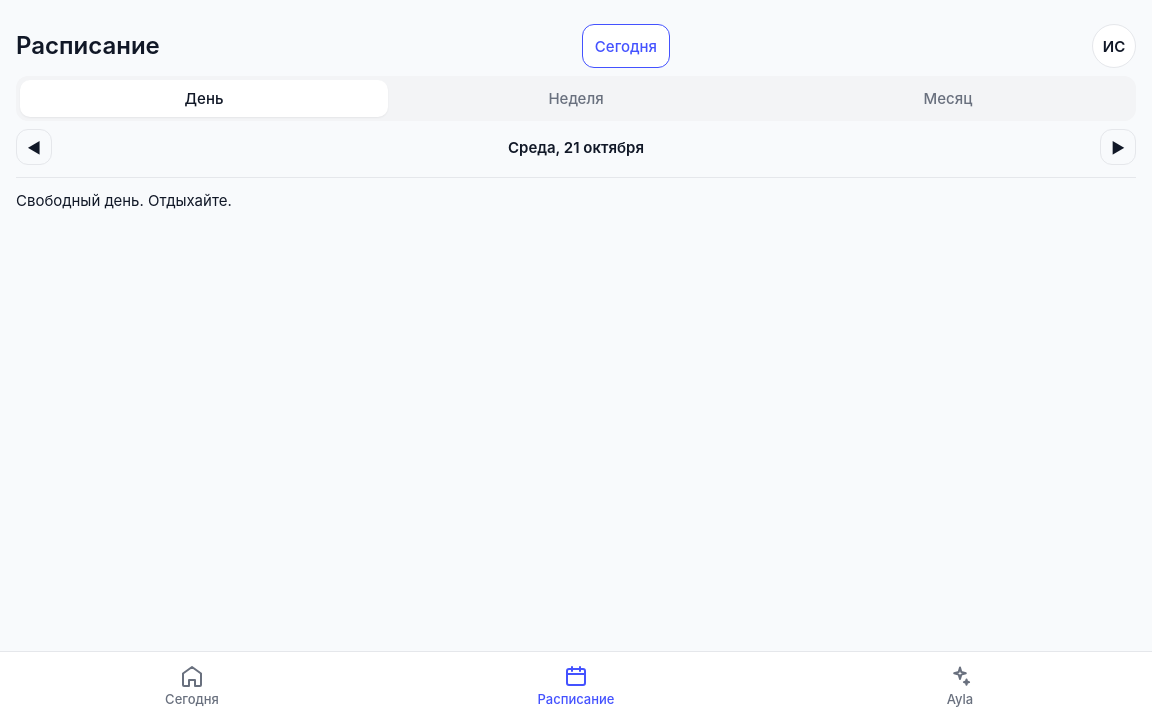
аватар мастера на всех трёх разделах (DRF-2121, §28 п.3) › на /master/schedule аватар с инициалами открывает лист «Профиль · Со студией · Настройки»
The image size is (1152, 720).
Click the button with aria-label "Меню профиля" at point(1114, 46), box [1092,24,1136,68]
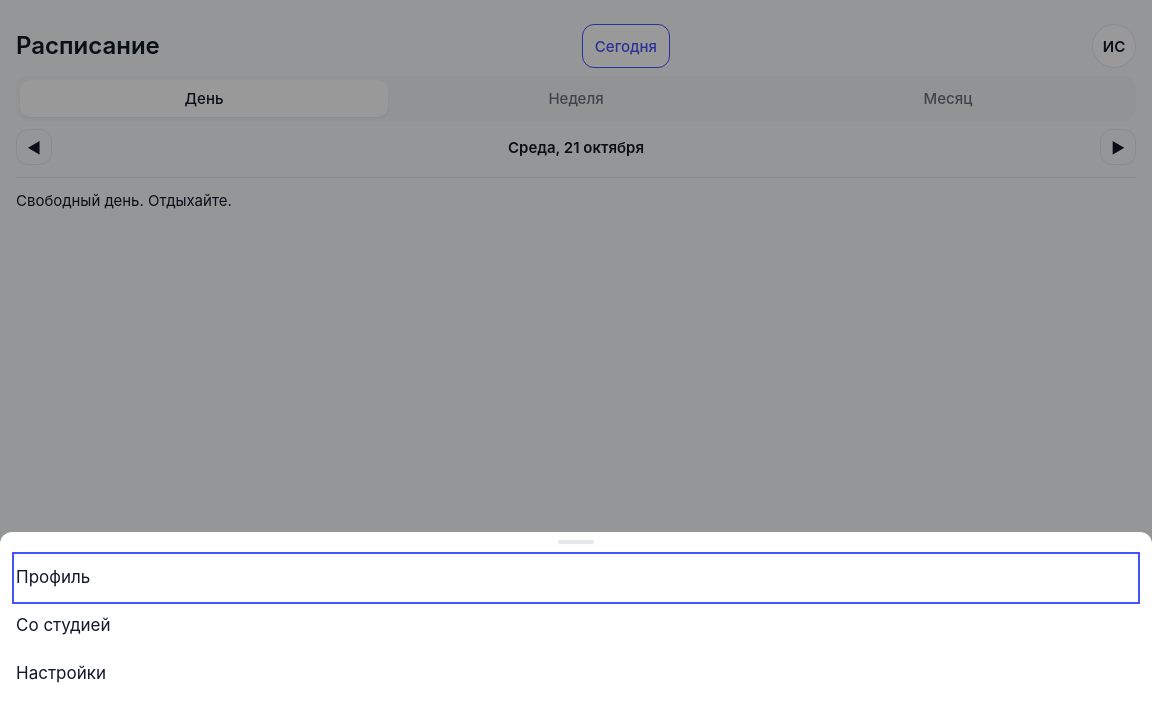
Now the buttons read "Профиль", "Со студией", "Настройки", in this order, box [16,556,1136,600]; [16,604,1136,648]; [16,652,1136,696]
